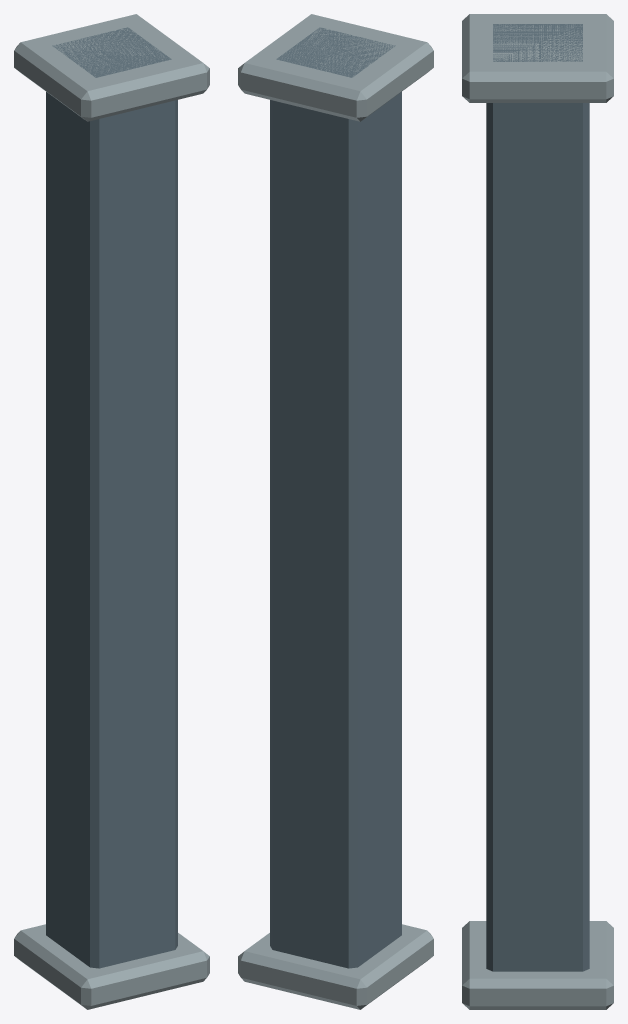
The model's file is architecture-city-pillar.lod0.glb.
3 renders of one model, left to right at view 1: azimuth 30°, elevation 25°; view 2: azimuth 150°, elevation 25°; view 3: azimuth 270°, elevation 25°, orthographic. The views are drawn at different scales.
Visible parts, largest first — view 1: architecture-city-pillar__body; view 2: architecture-city-pillar__body; view 3: architecture-city-pillar__body.
Boxes of the visible parts, box(x1,y1,x2,y2) form: architecture-city-pillar__body: box(14, 14, 209, 1009); architecture-city-pillar__body: box(238, 14, 433, 1009); architecture-city-pillar__body: box(462, 14, 613, 1009).
Size of the model in its own units: 0.44 by 3 by 0.44.
